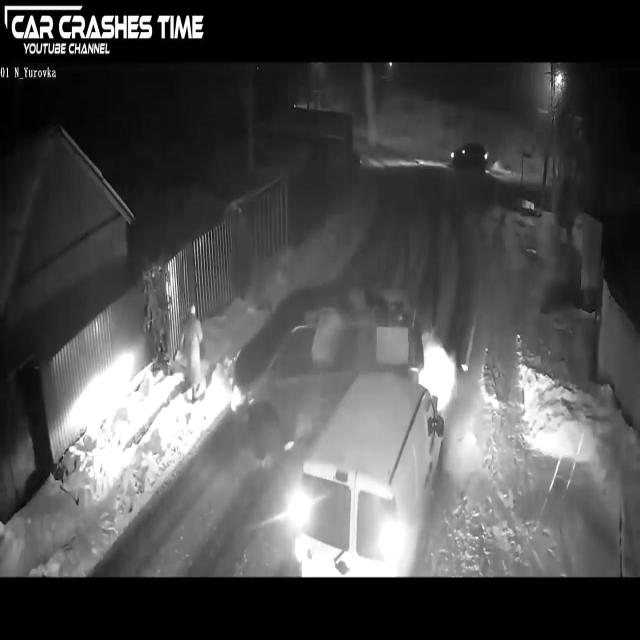accident: (228, 266, 448, 578)
